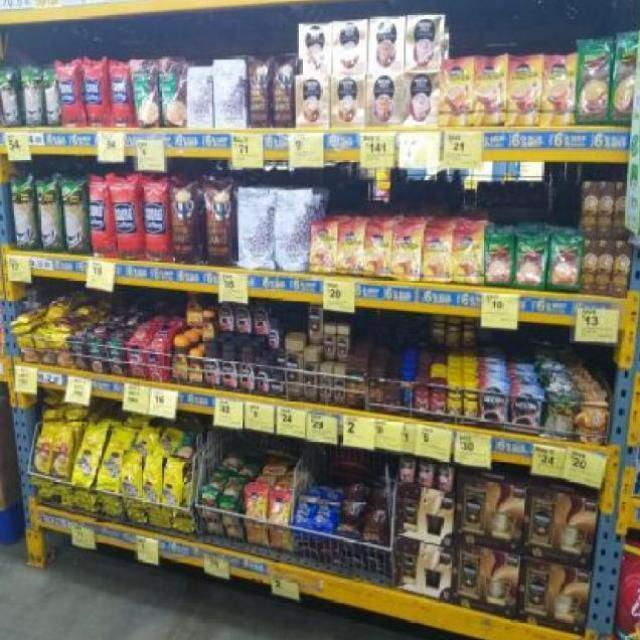Coffee: (540, 56, 576, 126), (473, 55, 509, 124), (506, 58, 542, 123), (440, 58, 473, 126), (452, 231, 483, 285), (422, 233, 452, 284), (393, 231, 421, 280), (364, 229, 392, 277), (337, 225, 363, 273), (513, 390, 540, 435), (311, 224, 336, 272), (482, 386, 507, 430), (287, 340, 302, 399), (239, 345, 255, 390), (205, 343, 221, 387), (221, 344, 237, 388), (304, 349, 318, 399), (247, 486, 267, 519), (174, 340, 189, 380), (271, 493, 290, 524), (186, 292, 202, 328), (309, 304, 322, 345), (257, 360, 271, 395), (320, 366, 333, 401), (334, 368, 346, 405), (202, 312, 215, 342), (189, 354, 202, 384), (324, 326, 335, 360), (338, 327, 349, 361), (271, 375, 284, 394), (275, 351, 284, 368)
